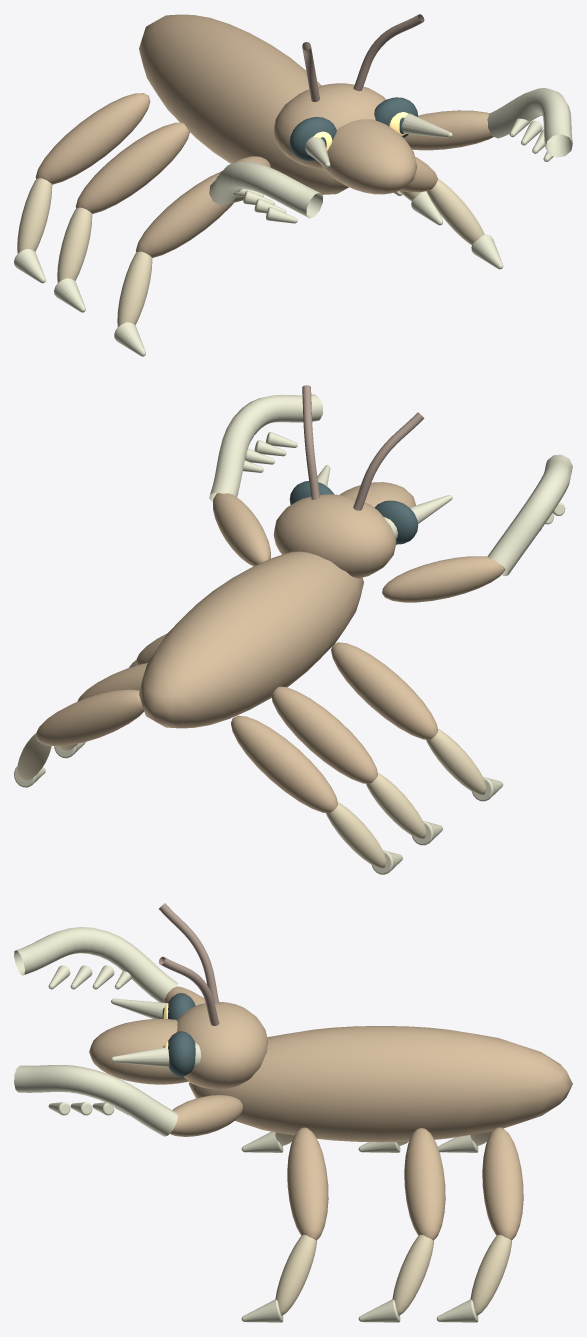
The model's file is bio_mantid_10_near.glb.
3 views of the same model, one above another, from view 1: azimuth 30°, elevation 25°; view 2: azimuth 150°, elevation 25°; view 3: azimuth 270°, elevation 25° (orthographic). The views are drawn at different scales.
Parts seen in each view (by area): view 1: Articulated abdomen, Cranium, Upper leg.004, Upper leg.002, Swept scythe, Swept scythe.001, Upper leg, Raptorial arm.001, Protected orbit, Lower leg.002, Lower leg, Lower leg.004 (+9 smaller); view 2: Articulated abdomen, Cranium, Swept scythe.001, Upper leg, Upper leg.004, Upper leg.002, Upper leg.005, Raptorial arm, Swept scythe, Raptorial arm.001, Antenna, Lower leg.004 (+6 smaller); view 3: Articulated abdomen, Cranium, Swept scythe, Swept scythe.001, Upper leg.001, Upper leg.005, Upper leg.003, Raptorial arm.001, Antenna, Lower leg.003, Lower leg.001, Lower leg.005 (+7 smaller).
Part boxes in pixels (x1,y1,x2,y2): Articulated abdomen: [139, 14, 348, 194]; Cranium: [273, 83, 417, 194]; Upper leg.004: [35, 93, 150, 184]; Upper leg.002: [75, 122, 189, 213]; Swept scythe: [209, 161, 322, 223]; Swept scythe.001: [487, 88, 572, 161]; Upper leg: [136, 171, 233, 257]; Raptorial arm.001: [404, 110, 493, 150]; Protected orbit: [289, 97, 417, 160]; Lower leg.002: [57, 207, 92, 282]; Lower leg: [117, 251, 152, 326]; Lower leg.004: [17, 178, 52, 253]; Articulated abdomen: [139, 551, 363, 728]; Cranium: [273, 482, 415, 578]; Swept scythe.001: [209, 394, 322, 502]; Upper leg: [331, 642, 437, 739]; Upper leg.004: [231, 715, 337, 812]; Upper leg.002: [271, 686, 377, 783]; Upper leg.005: [35, 689, 144, 746]; Raptorial arm: [382, 556, 505, 602]; Swept scythe: [487, 454, 572, 576]; Raptorial arm.001: [213, 493, 270, 566]; Antenna: [302, 385, 424, 510]; Lower leg.004: [326, 802, 386, 868]; Articulated abdomen: [189, 1026, 572, 1142]; Cranium: [89, 1002, 268, 1089]; Swept scythe: [14, 927, 177, 1002]; Swept scythe.001: [14, 1065, 177, 1136]; Upper leg.001: [287, 1127, 328, 1240]; Upper leg.005: [482, 1127, 523, 1240]; Upper leg.003: [404, 1128, 445, 1240]; Raptorial arm.001: [170, 1095, 242, 1136]; Antenna: [158, 903, 219, 1025]; Lower leg.003: [392, 1234, 433, 1315]; Lower leg.001: [275, 1234, 316, 1315]; Lower leg.005: [470, 1234, 511, 1315].
Size of the model in its own units: 2.51 by 1.99 by 3.3.
